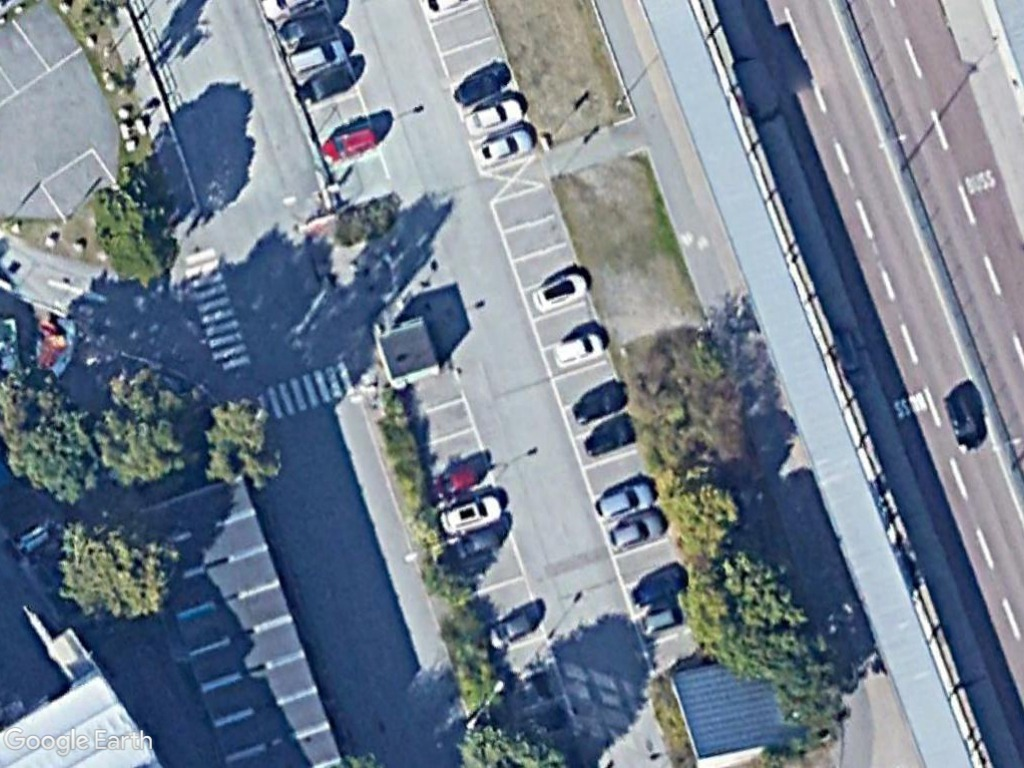car: (434, 491, 510, 537), (590, 477, 657, 526), (285, 32, 352, 81), (942, 392, 988, 459), (463, 92, 528, 138), (604, 509, 668, 555), (529, 269, 592, 315), (475, 123, 536, 168), (318, 122, 382, 163), (453, 61, 511, 106), (549, 328, 607, 370), (485, 605, 538, 650)
